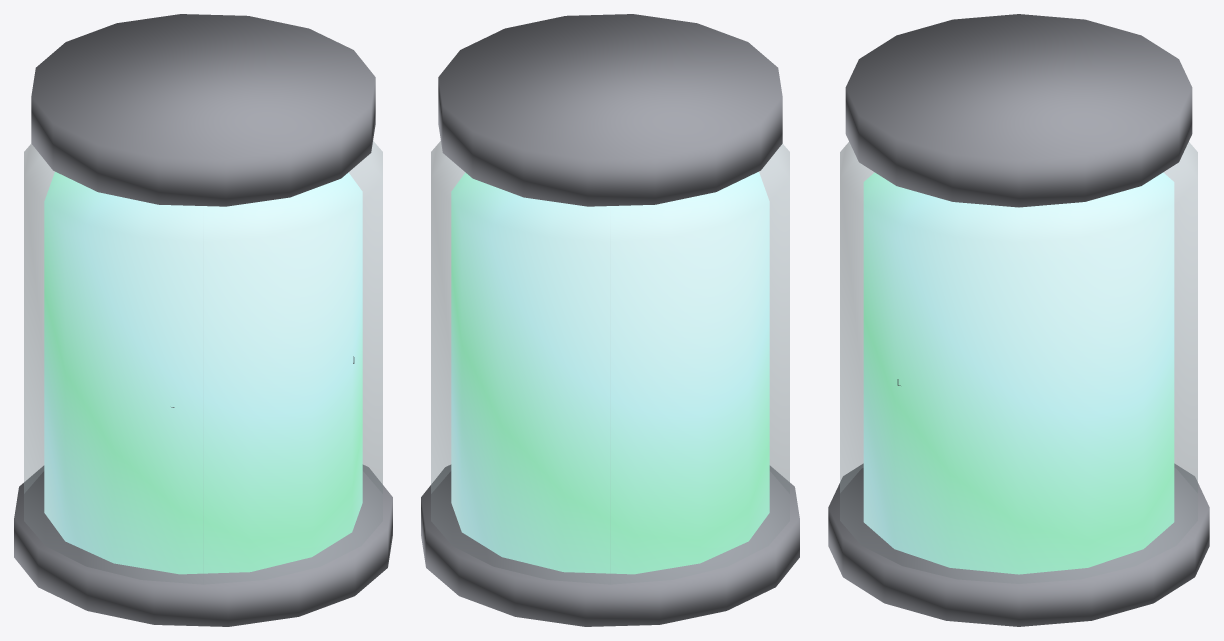
Rendered from specimen_jar_bat.glb.
The picture shows the model from 3 angles, left to right: view 1: azimuth 30°, elevation 25°; view 2: azimuth 150°, elevation 25°; view 3: azimuth 270°, elevation 25°; orthographic projection.
Visible parts, largest first — view 1: GD_specimen_jar_bat__m0, GD_specimen_jar_bat__m1, GD_specimen_jar_bat__m2; view 2: GD_specimen_jar_bat__m0, GD_specimen_jar_bat__m1, GD_specimen_jar_bat__m2; view 3: GD_specimen_jar_bat__m0, GD_specimen_jar_bat__m1, GD_specimen_jar_bat__m2.
Part boxes in pixels (x1,y1,x2,y2): GD_specimen_jar_bat__m0: (24, 141, 382, 584); GD_specimen_jar_bat__m1: (44, 172, 362, 574); GD_specimen_jar_bat__m2: (14, 14, 392, 626); GD_specimen_jar_bat__m0: (431, 141, 789, 584); GD_specimen_jar_bat__m1: (451, 172, 769, 574); GD_specimen_jar_bat__m2: (421, 14, 799, 626); GD_specimen_jar_bat__m0: (840, 142, 1197, 583); GD_specimen_jar_bat__m1: (863, 172, 1174, 574); GD_specimen_jar_bat__m2: (828, 14, 1209, 626).
Bounding box in the file's own units: 0.22 × 0.2925 × 0.22.
